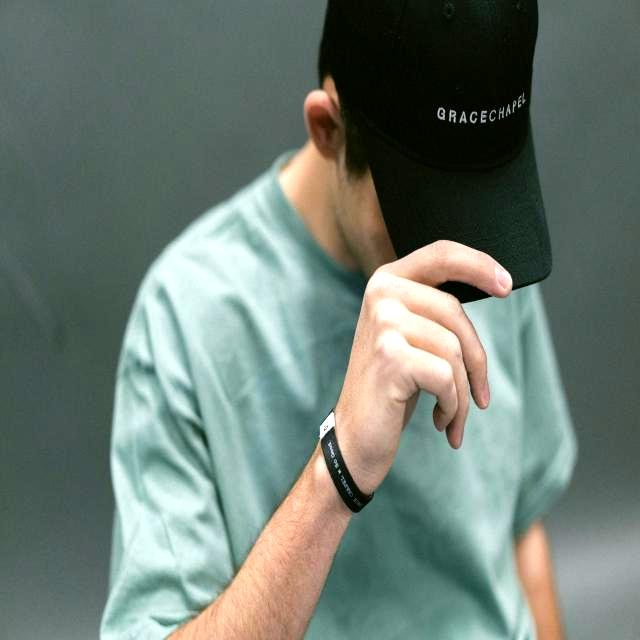no_hard_hat: (318, 0, 552, 307)
person: (100, 0, 576, 639)
